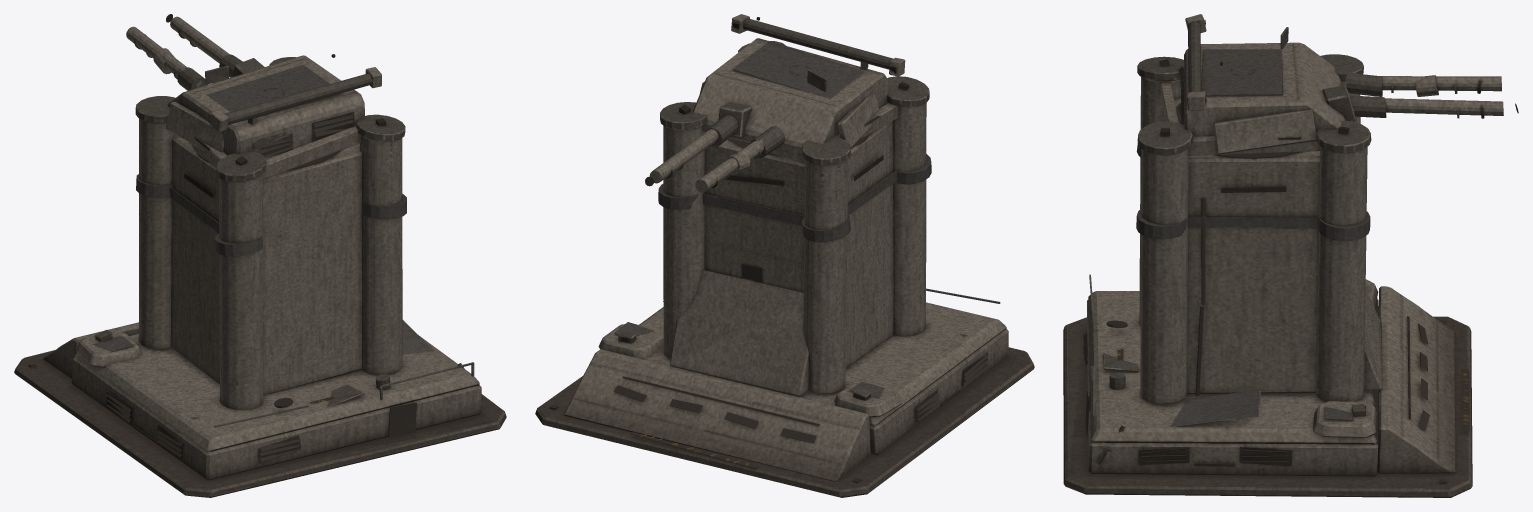
The model's file is ord_rampart_wreck.fbx.
3 renders of one model, left to right at view 1: azimuth 30°, elevation 25°; view 2: azimuth 150°, elevation 25°; view 3: azimuth 270°, elevation 25°, orthographic. The views are drawn at different scales.
Parts seen in each view (by area): view 1: base_bar, turret_bar; view 2: base_bar, turret_bar; view 3: base_bar, turret_bar.
Part boxes in pixels (x1,y1,x2,y2): base_bar: (14, 57, 506, 497); turret_bar: (126, 14, 381, 159); base_bar: (535, 41, 1034, 497); turret_bar: (645, 14, 905, 192); base_bar: (1063, 54, 1472, 497); turret_bar: (1178, 14, 1518, 154).
Bounding box in the file's own units: 2361 × 2546 × 2593.
2 materials, 2 textured.
